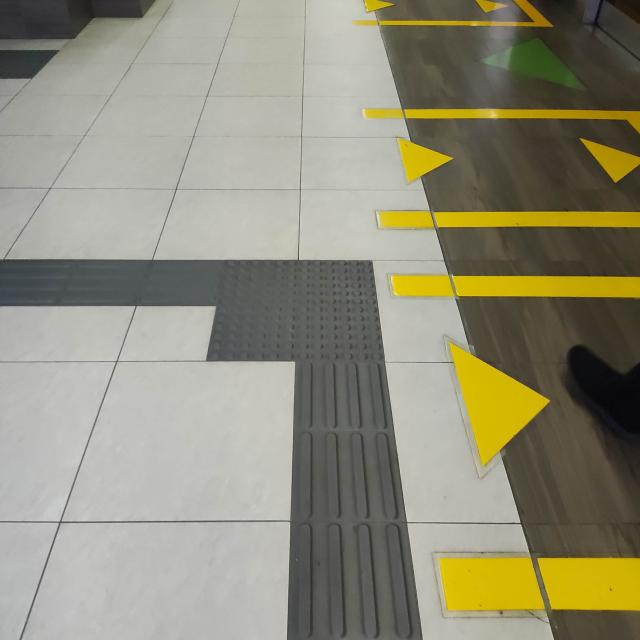kiri: (83, 218, 421, 413)
